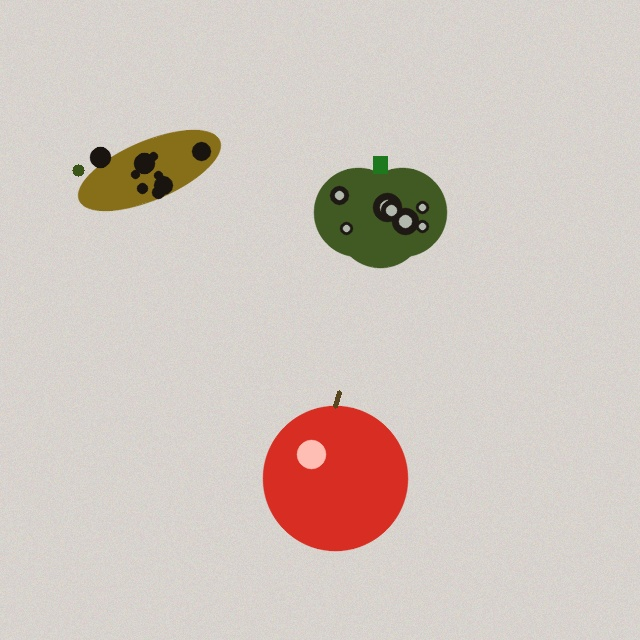Fresh apple: (263, 392, 407, 550)
Rotten banana: (70, 134, 228, 206)
Rotten bell pepper: (314, 156, 446, 267)
